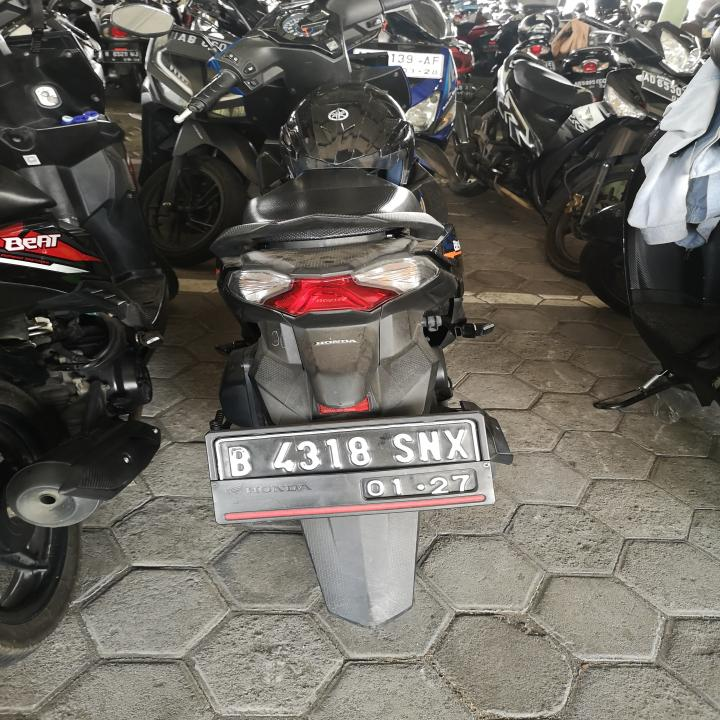plate: (212, 416, 486, 513), (640, 70, 686, 104)
